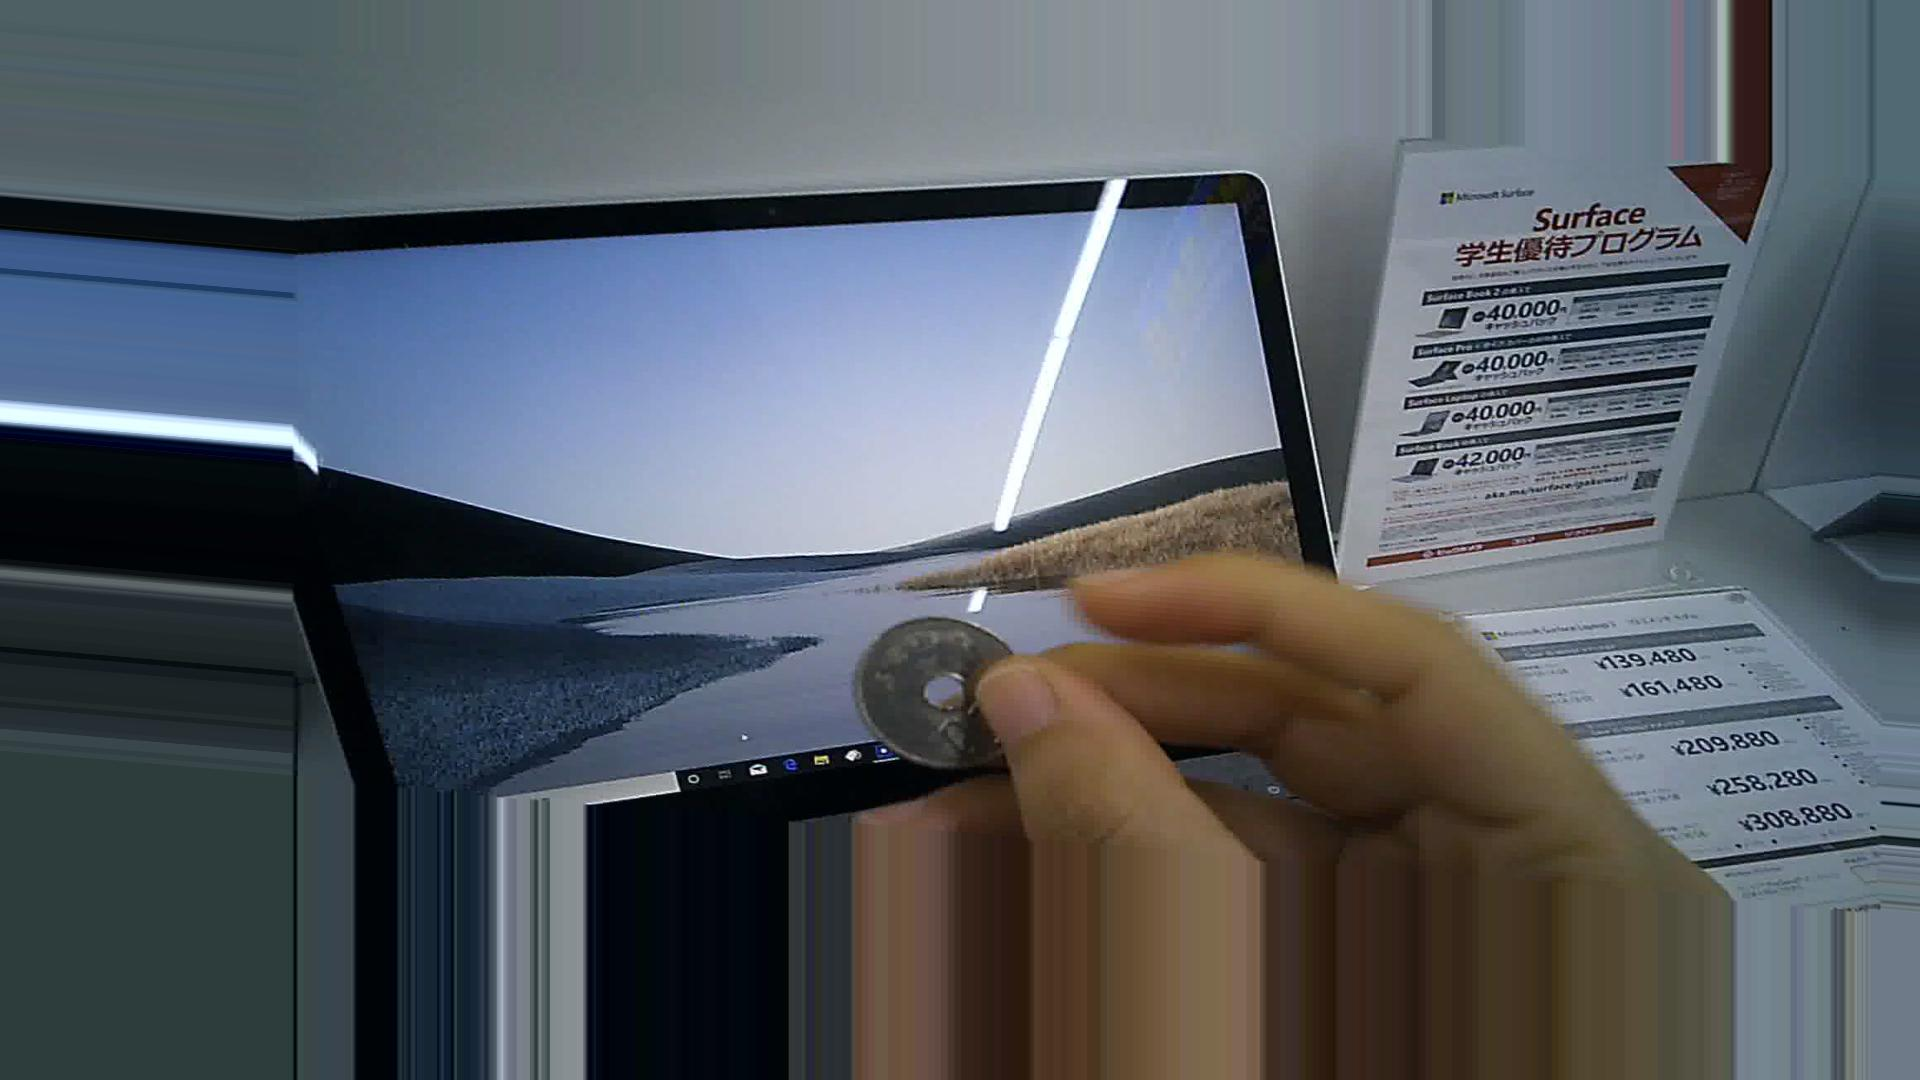50 Yen: (858, 615, 1025, 770)
